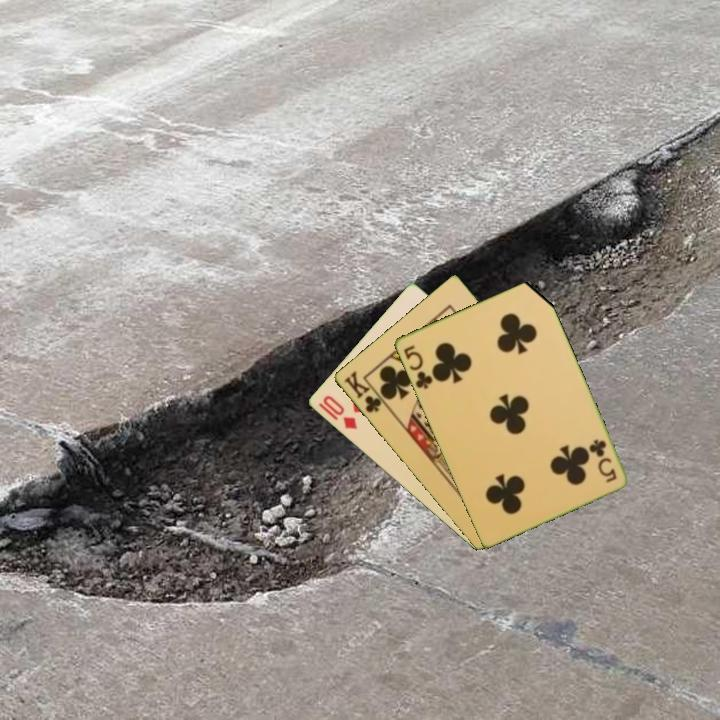10d: (319, 392, 360, 432)
5c: (400, 341, 435, 392), (586, 435, 619, 486)
Kc: (340, 367, 390, 416)
